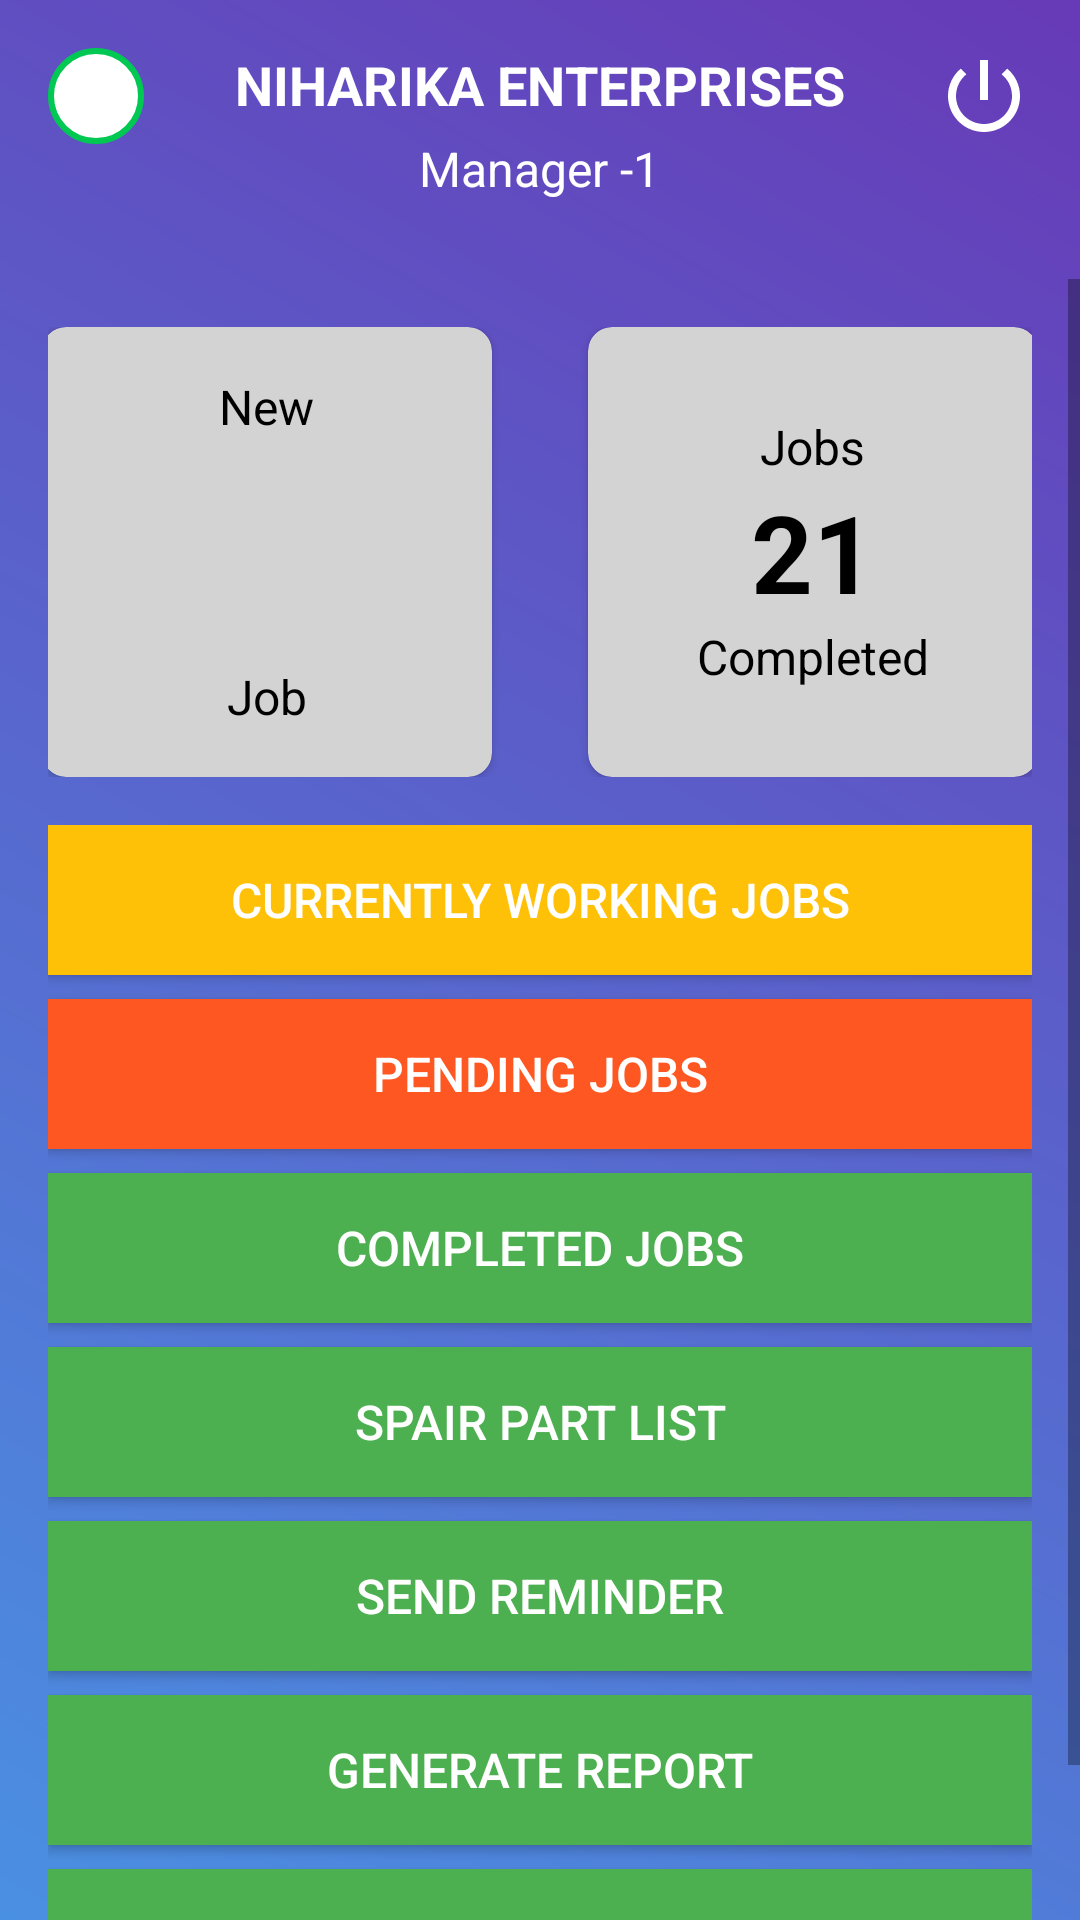

Point at icon controls on the screen. Image size 1080 x 1920, points as point (x, y).
power: point (984, 96)
